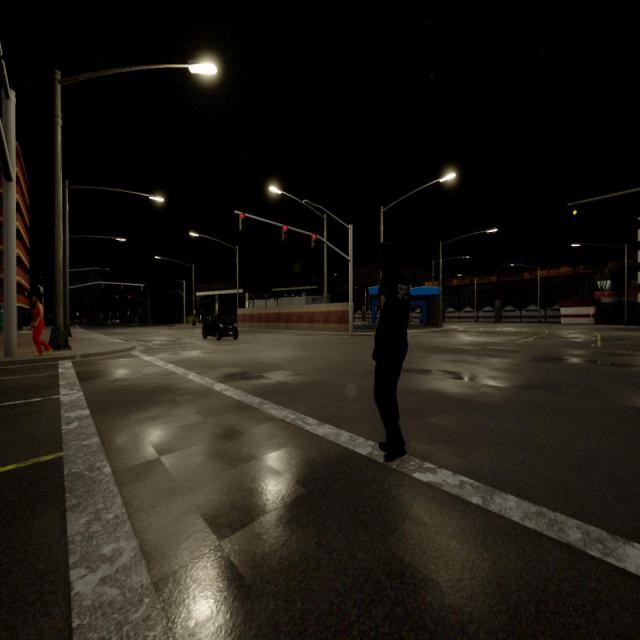Pedestrian: (372, 243, 410, 462), (30, 296, 52, 356)
Traffic_Signs: (589, 308, 593, 314)
Vehicle: (203, 314, 238, 339)
traffic_light: (240, 214, 244, 231), (283, 225, 287, 241), (312, 234, 316, 248), (573, 205, 577, 215), (121, 284, 123, 289), (128, 296, 131, 299), (141, 286, 143, 290), (102, 284, 104, 288), (116, 295, 118, 298)
